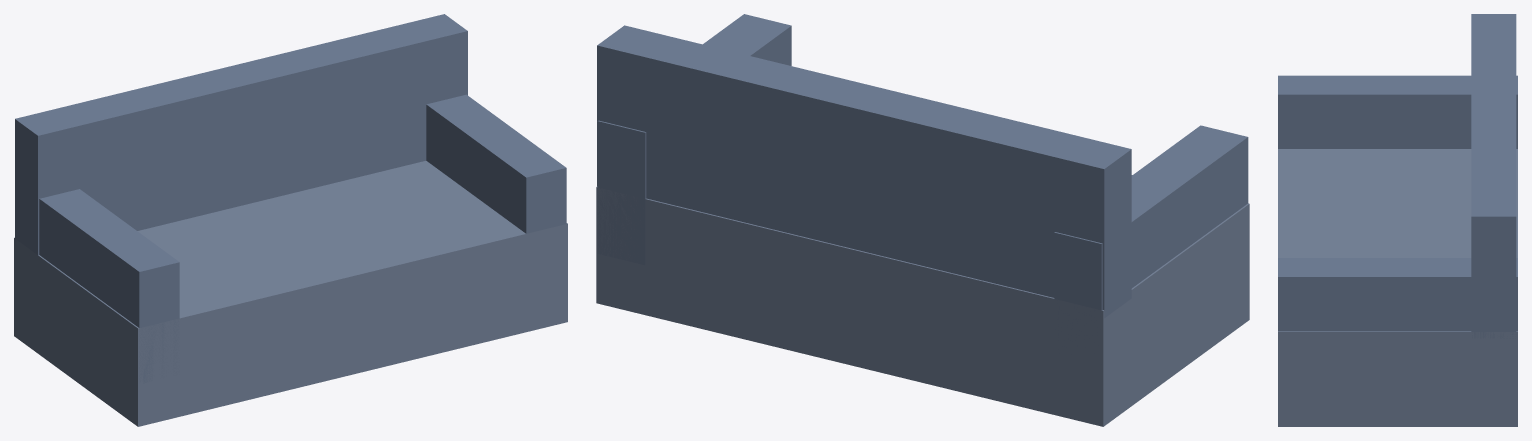
Rendered from sofa.glb.
The picture shows the model from 3 angles, left to right: view 1: azimuth 30°, elevation 25°; view 2: azimuth 150°, elevation 25°; view 3: azimuth 270°, elevation 25°; orthographic projection. The views are drawn at different scales.
Visible parts, largest first — view 1: world; view 2: world; view 3: world.
Part boxes in pixels (x1,y1,x2,y2): world: [14, 14, 567, 426]; world: [596, 14, 1249, 426]; world: [1278, 14, 1517, 426].
Size of the model in its own units: 1.6 by 0.775 by 0.8.
